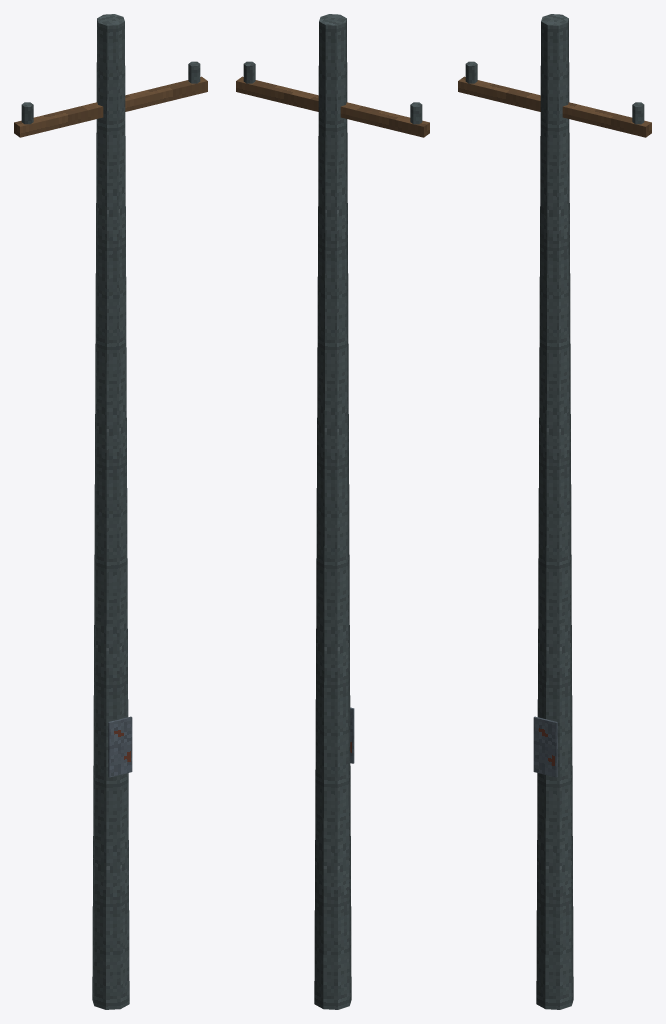
File: utility_pole.gltf
3 renders of one model, left to right at view 1: azimuth 30°, elevation 25°; view 2: azimuth 150°, elevation 25°; view 3: azimuth 330°, elevation 25°, orthographic.
Visible parts, largest first — view 1: utility_pole; view 2: utility_pole; view 3: utility_pole.
Boxes of the visible parts, x1,y1,x2,y2 form: utility_pole: [14, 14, 207, 1009]; utility_pole: [236, 14, 429, 1009]; utility_pole: [458, 14, 651, 1009].
Size of the model in its own units: 1.8 by 9 by 0.325.
3 materials, 3 textured.
